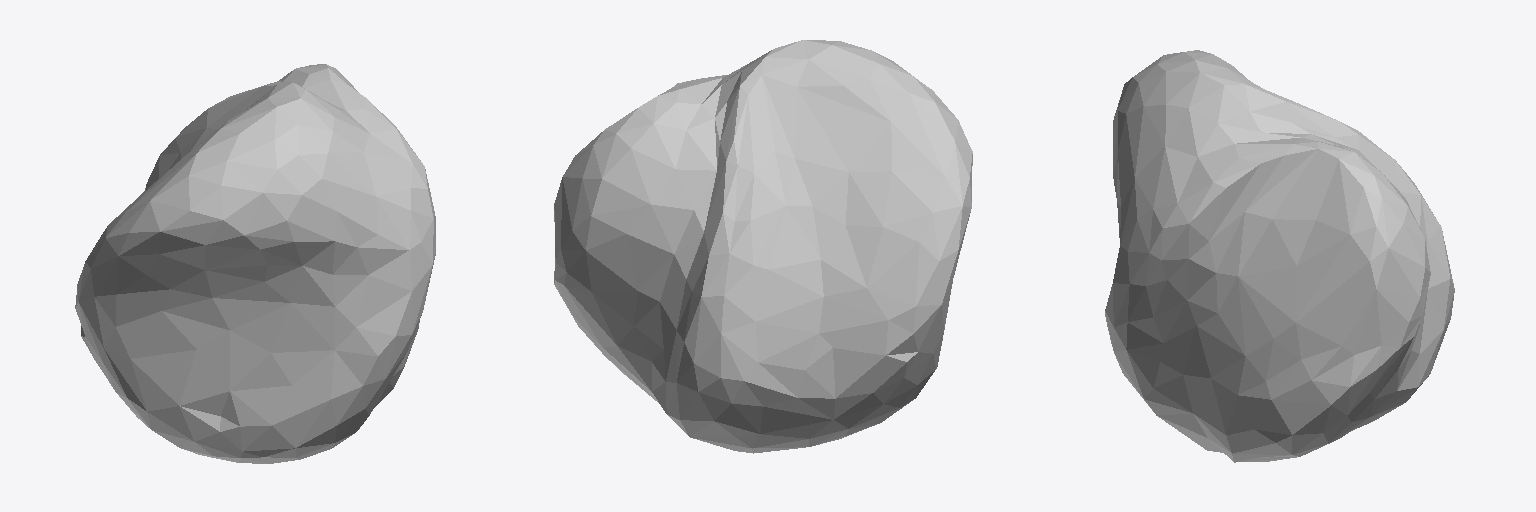
File: Fimo_Point_03.obj
3 views of the same model, side by side, from view 1: azimuth 30°, elevation 25°; view 2: azimuth 150°, elevation 25°; view 3: azimuth 270°, elevation 25° (orthographic).
Size of the model in its own units: 0.6523 by 0.6511 by 0.5555.